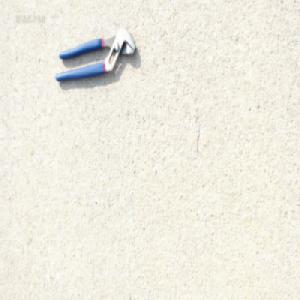Pliers: (53, 26, 136, 84)
